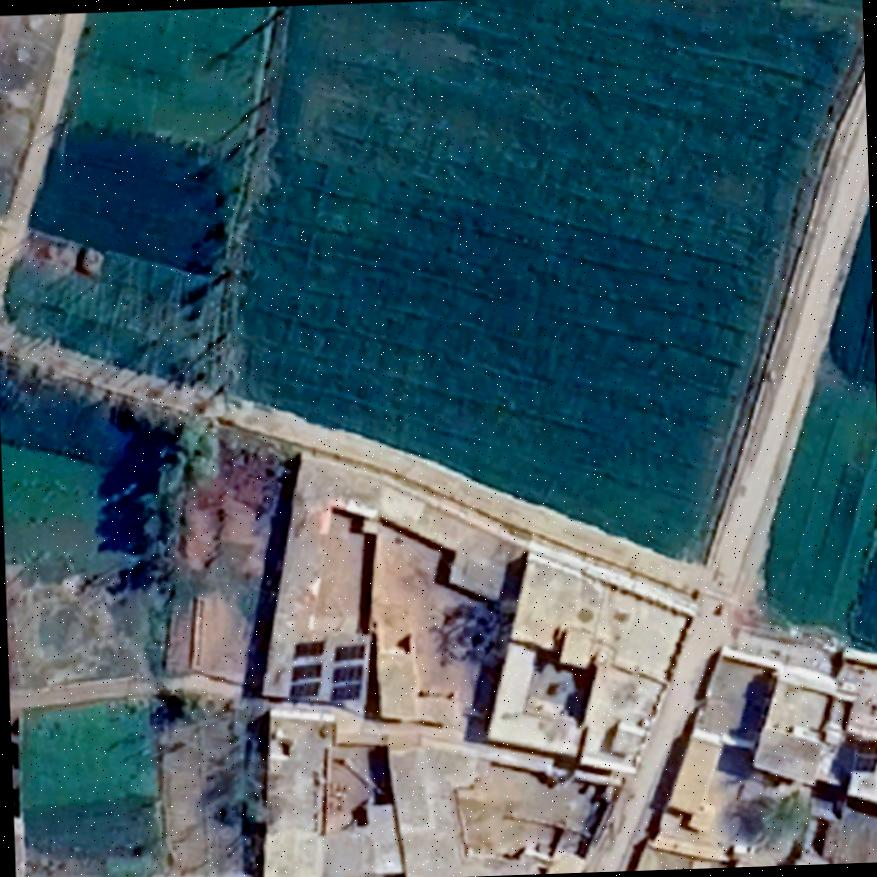Solarpanel: (281, 636, 329, 704), (322, 641, 370, 704), (850, 739, 877, 778)
